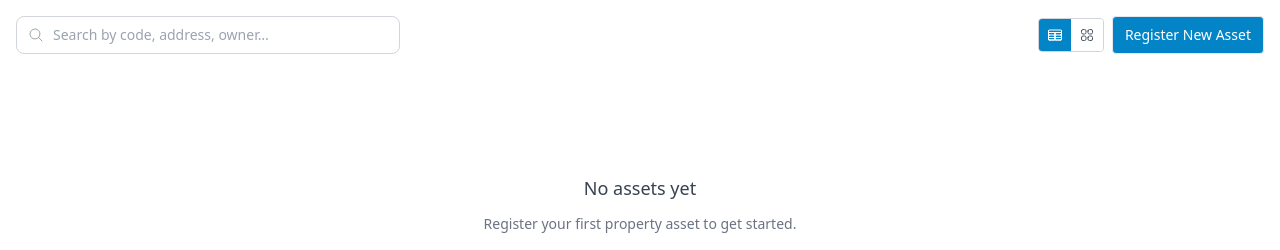
Test: AssetsPage › shows empty state with search hint when search returns nothing
The image size is (1280, 250).
Expected: the text "No assets yet" is shown, x1=584 y1=174 x2=696 y2=202
Type "xyz" into the search field with placeholder "Search by code, address, owner…" at [208, 35], box x1=16 y1=16 x2=400 y2=54
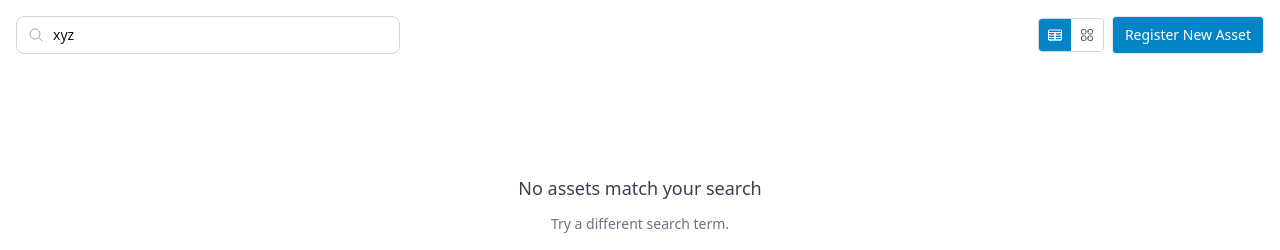
Now the text "No assets match your search" is shown, box x1=518 y1=174 x2=762 y2=202
